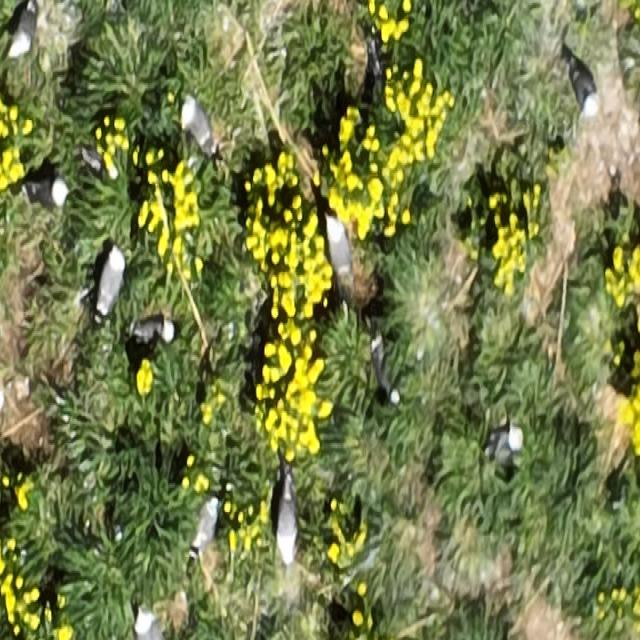umineko: (564, 47, 602, 119), (325, 211, 350, 286), (276, 477, 298, 562), (130, 306, 175, 346), (183, 104, 214, 154), (494, 429, 526, 471), (99, 256, 123, 311), (195, 502, 218, 550), (12, 6, 34, 55), (133, 598, 160, 636), (29, 182, 68, 206)
